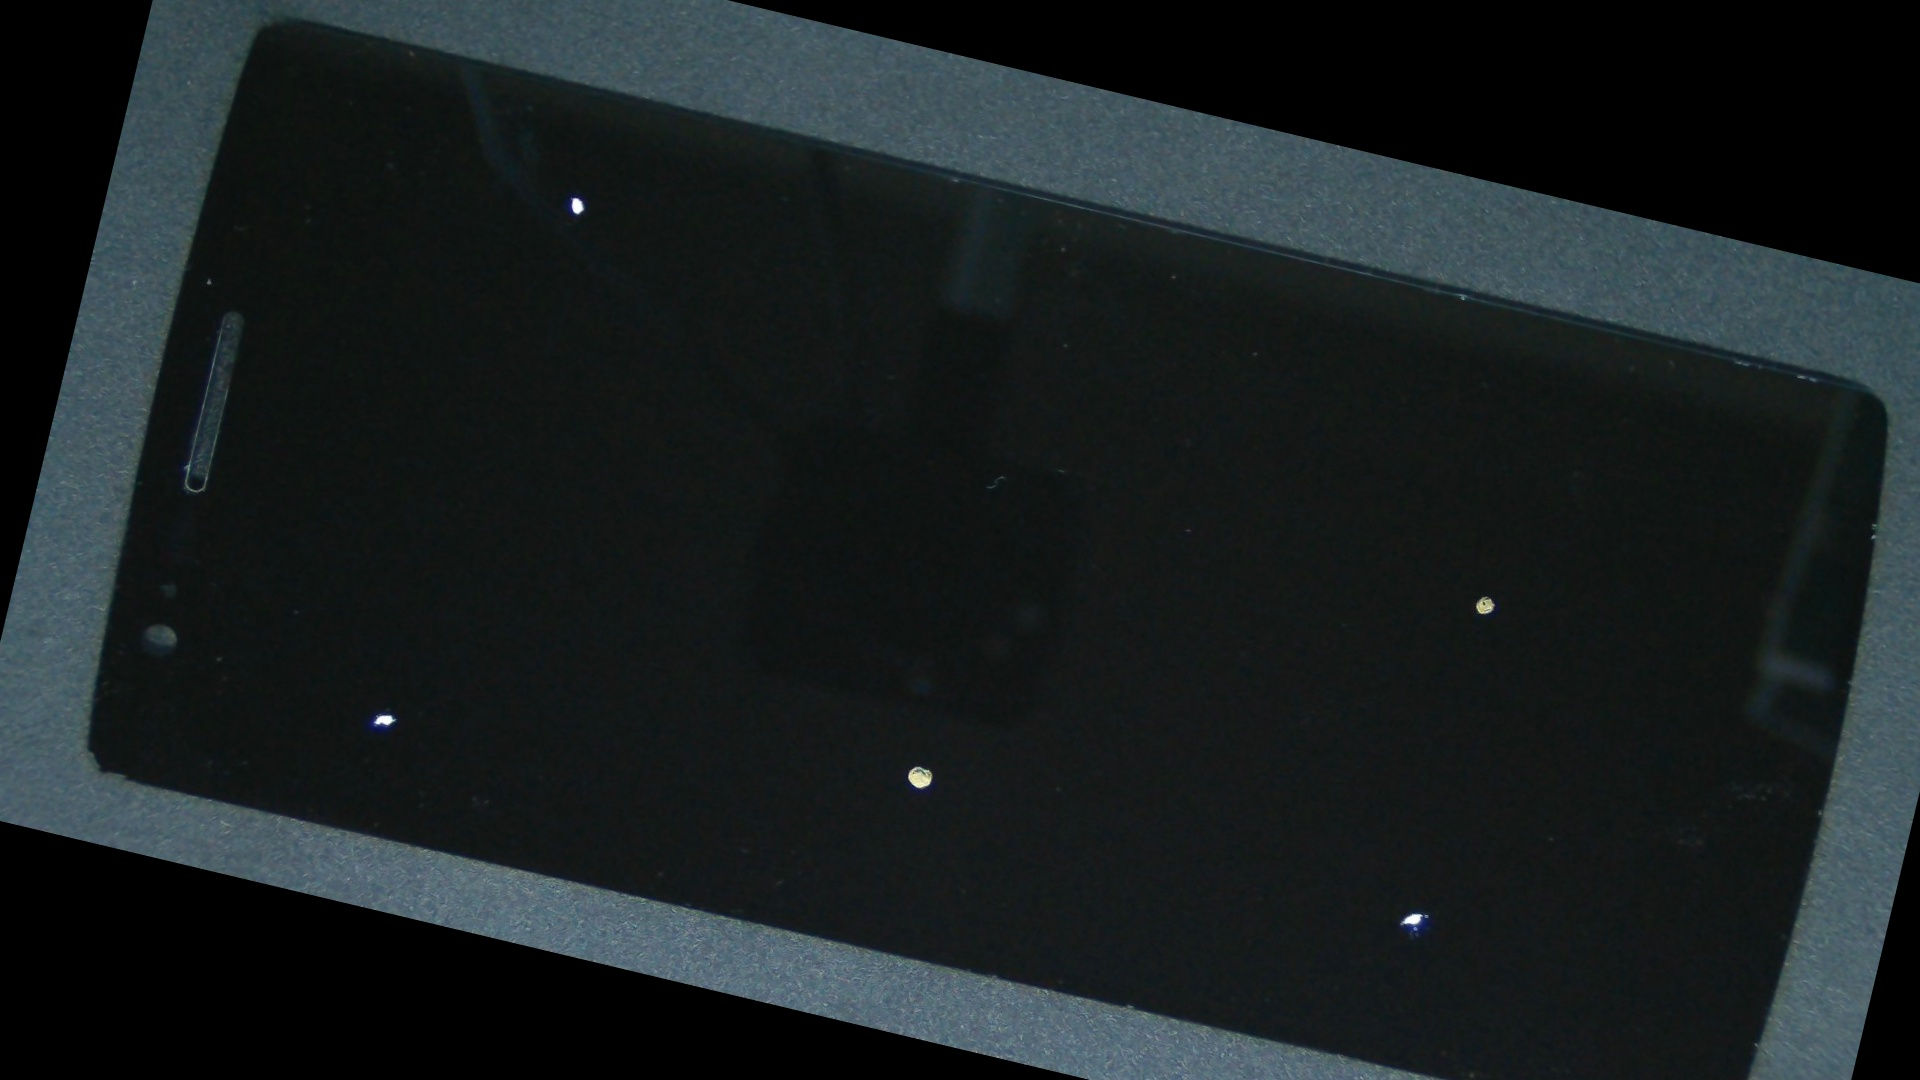oil: (666, 392, 1920, 1080), (414, 319, 1462, 1080), (741, 232, 1920, 901), (154, 291, 675, 949), (330, 33, 828, 359)
